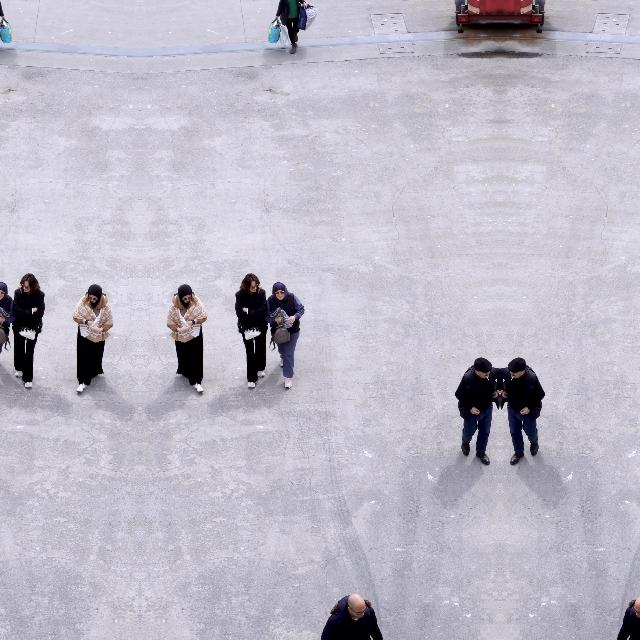person: (454, 357, 500, 465), (500, 357, 546, 465), (166, 284, 208, 394), (72, 284, 114, 394), (265, 282, 305, 390), (235, 272, 269, 390), (11, 272, 45, 390), (321, 594, 384, 640), (275, 0, 309, 54), (0, 282, 15, 390), (616, 594, 640, 640), (0, 0, 5, 54)
